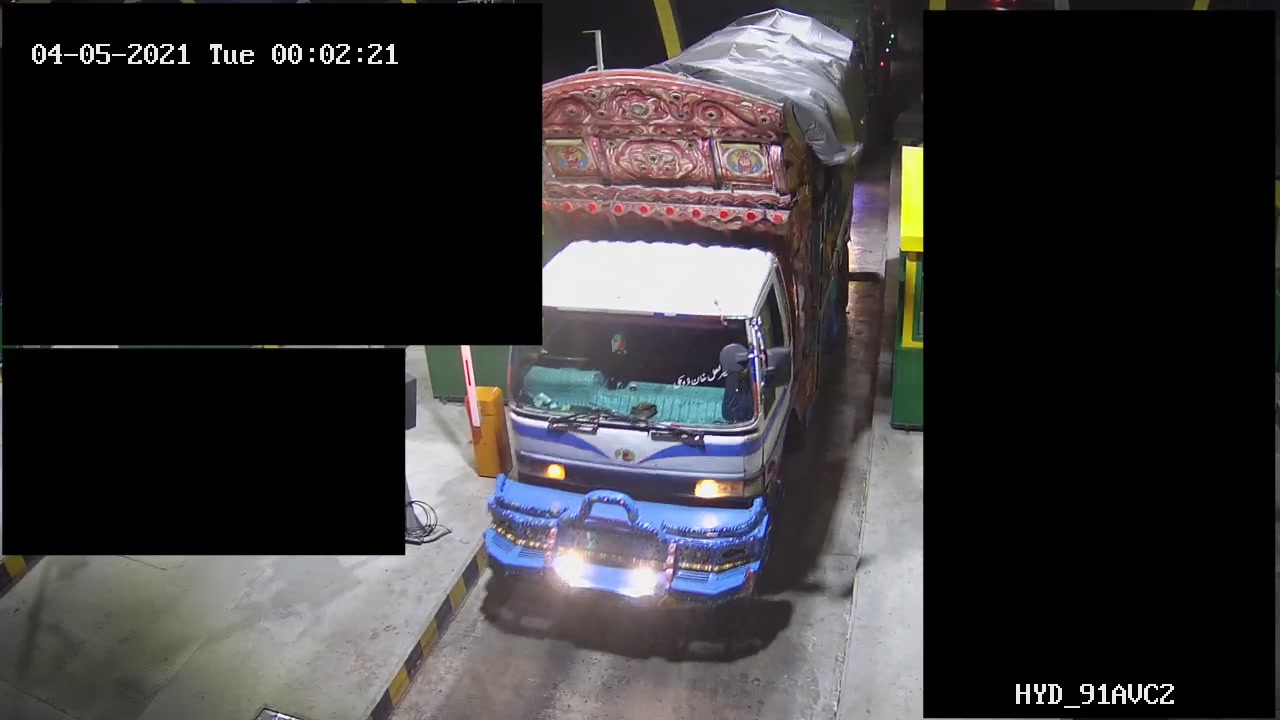F5: (483, 7, 874, 625)
